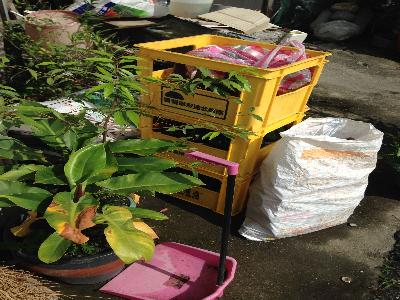plastic_bag: (235, 117, 383, 242)
